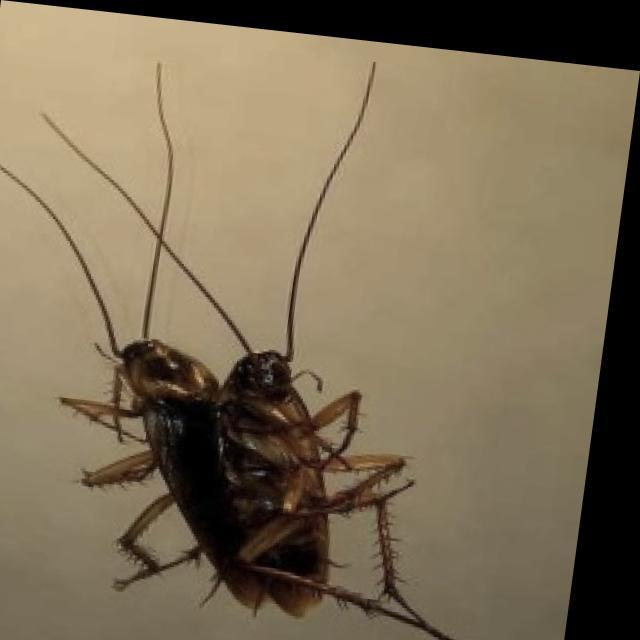cockroach: (2, 56, 466, 638)
